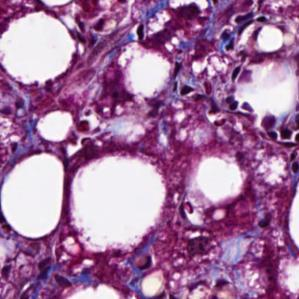inflammation: (169, 80, 254, 118), (159, 0, 218, 28), (260, 113, 299, 150)
